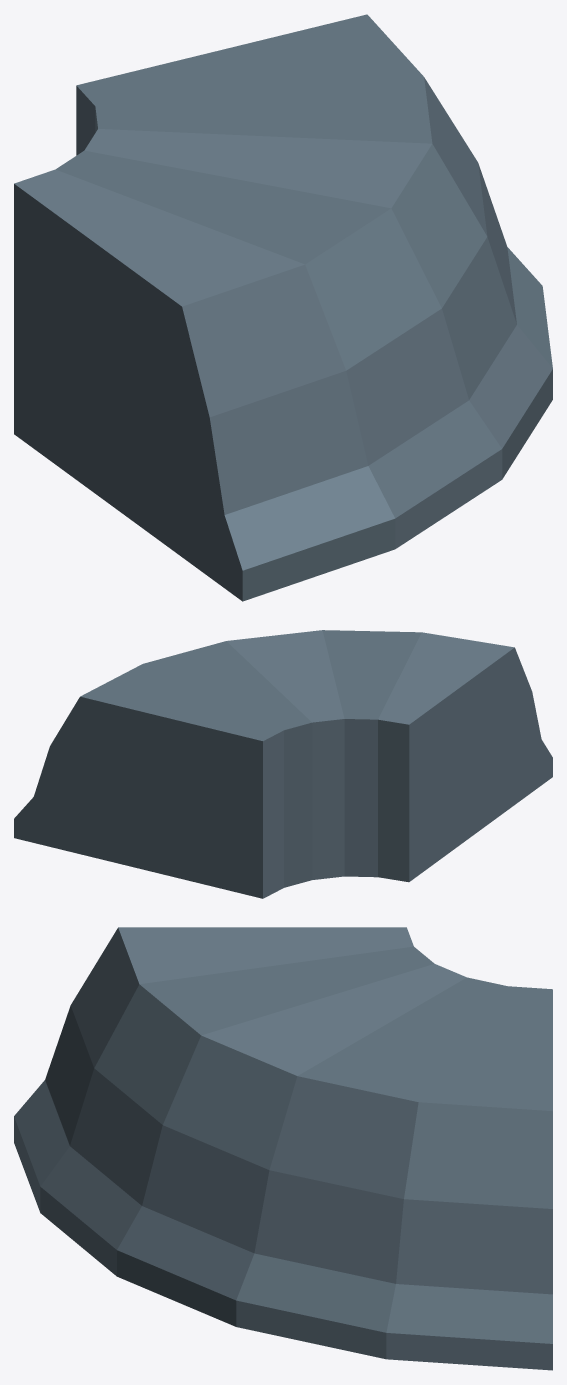
Rendered from EM_ShoreCliffCorner.fbx.
3 views of the same model, one above another, from view 1: azimuth 30°, elevation 25°; view 2: azimuth 150°, elevation 25°; view 3: azimuth 270°, elevation 25° (orthographic). The views are drawn at different scales.
Visible parts, largest first — view 1: EM_ShoreCliffCorner; view 2: EM_ShoreCliffCorner; view 3: EM_ShoreCliffCorner.
Part boxes in pixels (x1,y1,x2,y2): EM_ShoreCliffCorner: (14,14,552,601); EM_ShoreCliffCorner: (14,630,552,898); EM_ShoreCliffCorner: (14,927,552,1370).
Bounding box in the file's own units: 2.95 × 1.3 × 2.95.
